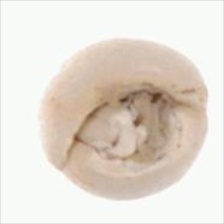L3: (74, 83, 185, 170)
L4: (39, 38, 208, 200)
